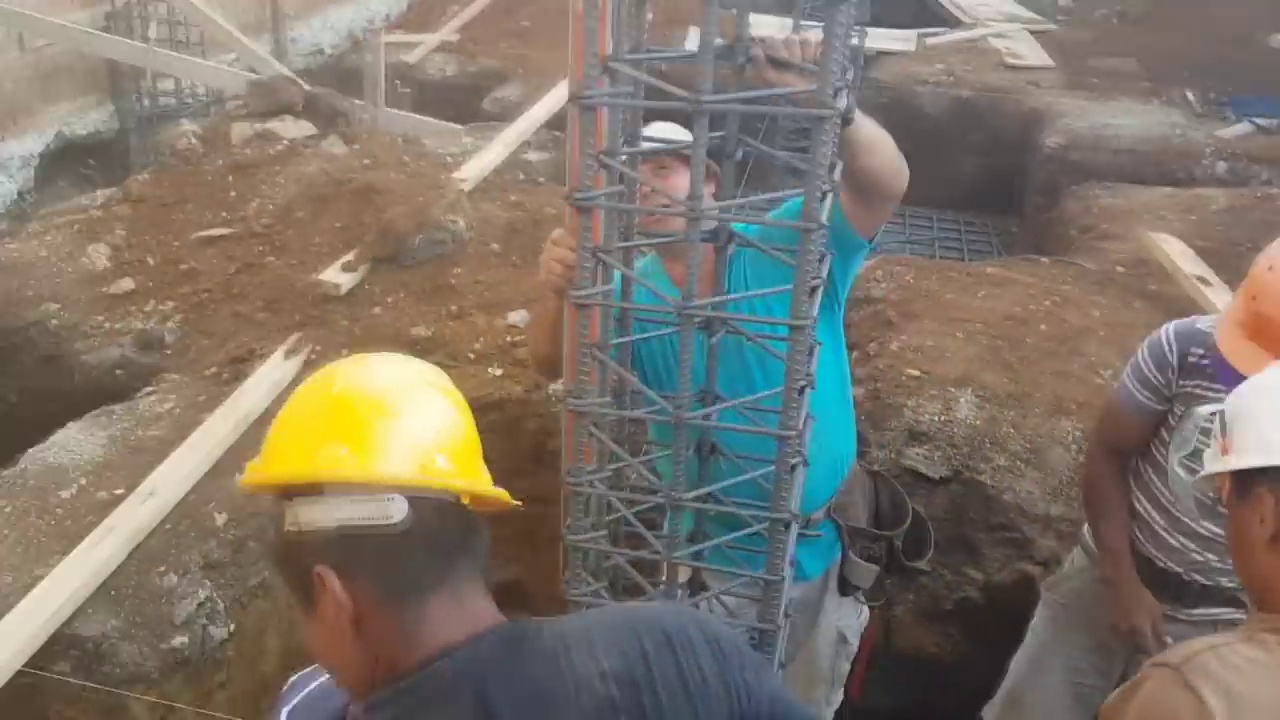helmet: (226, 347, 526, 516), (1194, 375, 1280, 490), (1220, 245, 1279, 372)
helmet-off: (614, 119, 733, 282)
helmet-on: (226, 350, 525, 648), (1190, 369, 1280, 627)
person: (541, 37, 909, 719), (230, 347, 830, 719), (972, 242, 1280, 720), (1090, 370, 1280, 720)
